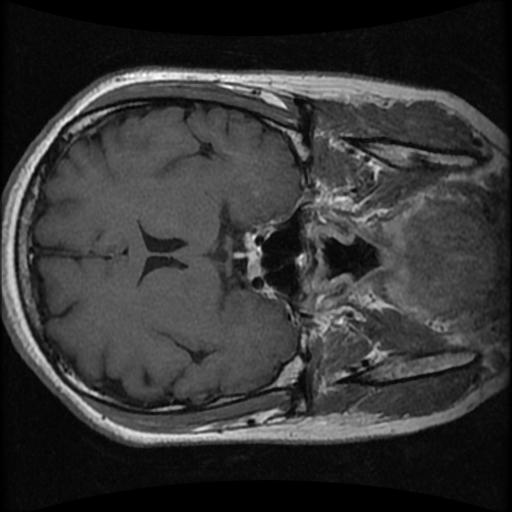pituitary tumour: (243, 227, 264, 284)
